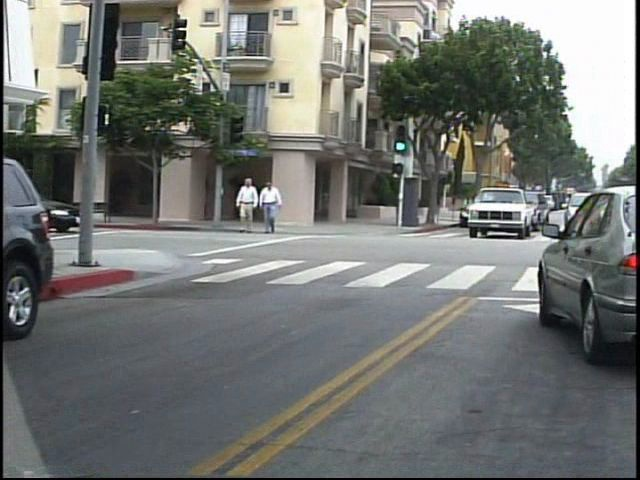person: (265, 176, 292, 239), (241, 176, 264, 240)
